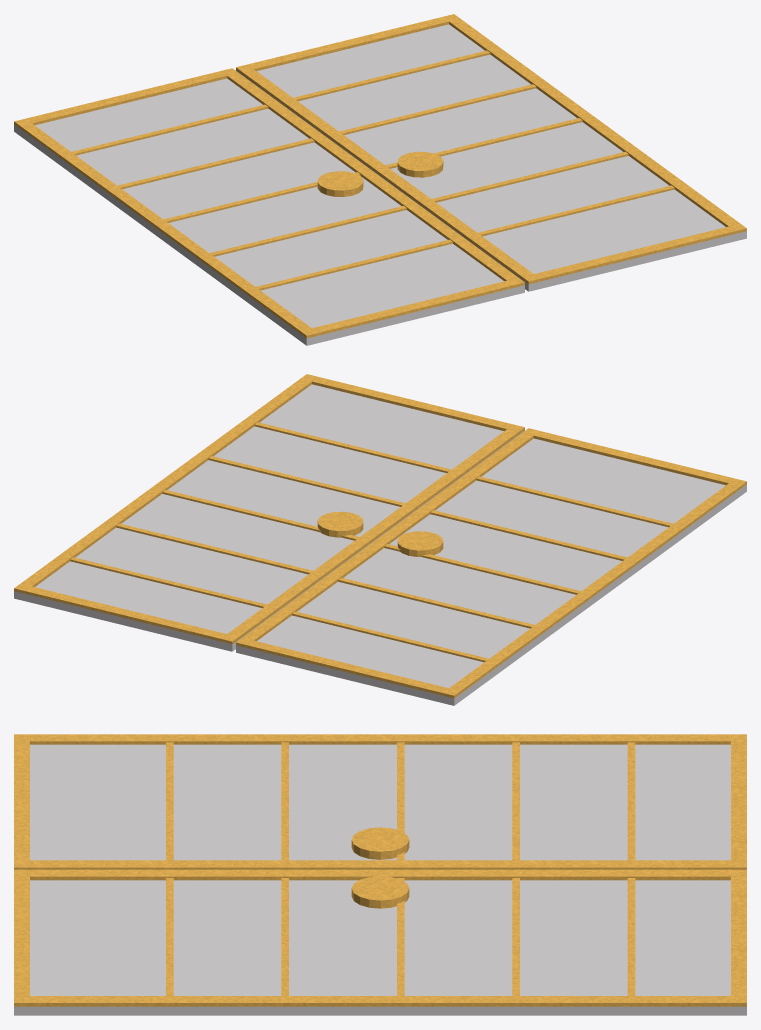
File: citadel_cellar_lid.glb
3 renders of one model, top to bottom at view 1: azimuth 30°, elevation 25°; view 2: azimuth 150°, elevation 25°; view 3: azimuth 270°, elevation 25°, orthographic. The views are drawn at different scales.
Visible parts, largest first — view 1: lid_Lacquer_White, lid_Citadel_Gold; view 2: lid_Lacquer_White, lid_Citadel_Gold; view 3: lid_Lacquer_White, lid_Citadel_Gold.
Part boxes in pixels (box(x1,y1,x2,y2)): lid_Lacquer_White: box(14, 24, 746, 345); lid_Citadel_Gold: box(14, 14, 746, 338); lid_Lacquer_White: box(14, 384, 746, 705); lid_Citadel_Gold: box(14, 374, 746, 698); lid_Lacquer_White: box(14, 744, 746, 1015); lid_Citadel_Gold: box(14, 734, 746, 1006).
Size of the model in its own units: 9.92 by 0.3 by 11.43.
2 materials, 1 textured.
